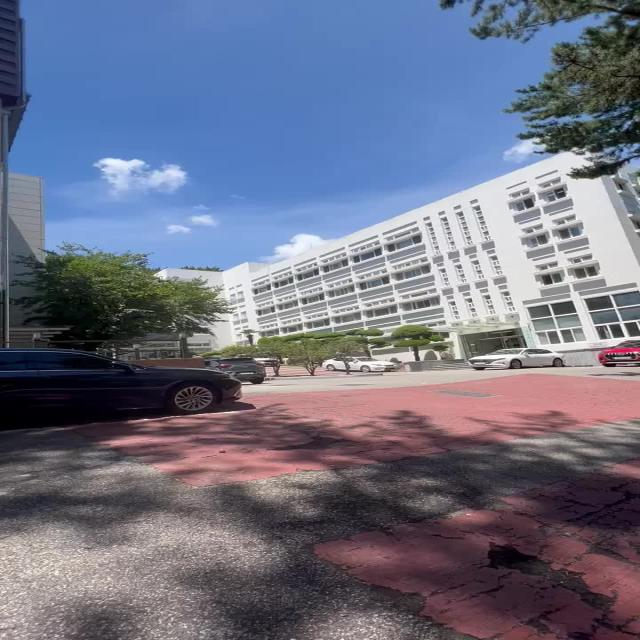building: (199, 151, 637, 334)
